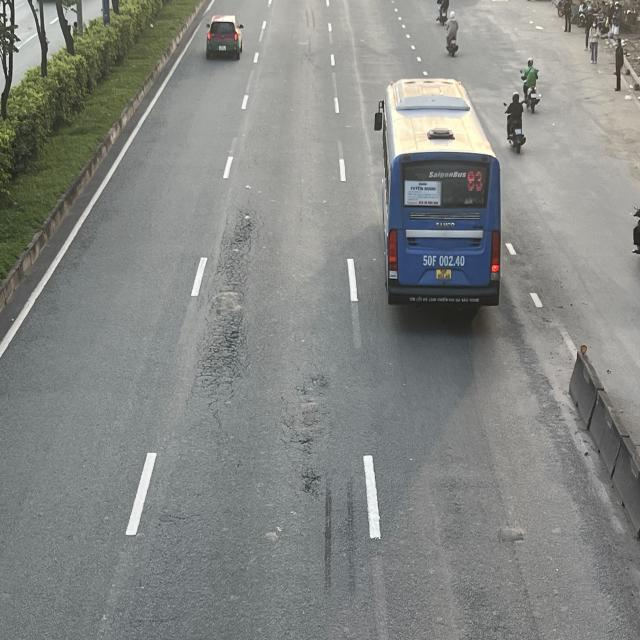car: (205, 15, 243, 59)
coach: (375, 78, 502, 311)
